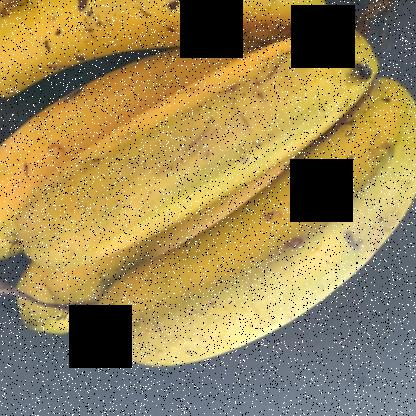ripe: (95, 103, 415, 375), (17, 33, 360, 274), (0, 1, 337, 101)
